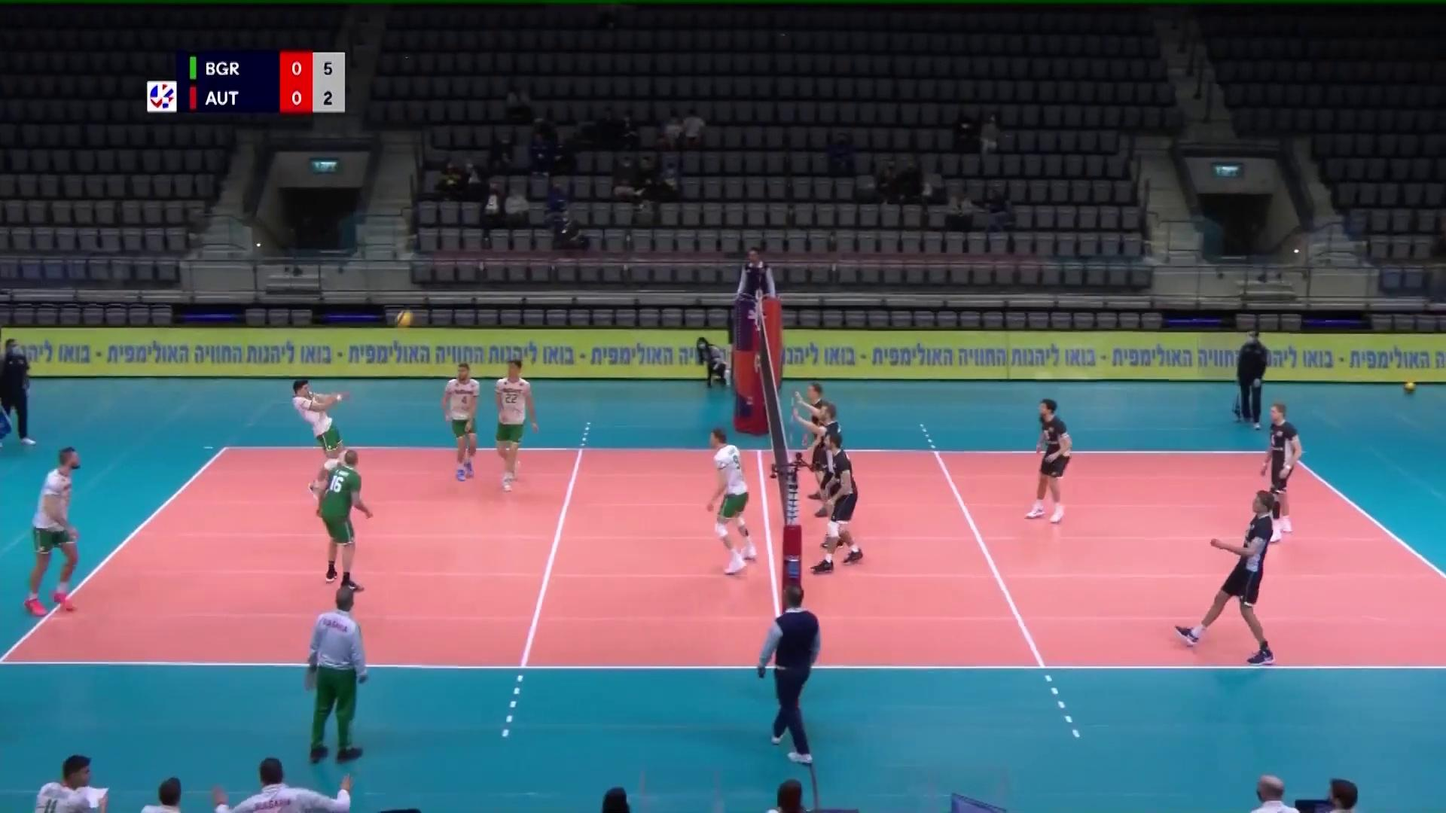ball: (396, 309, 413, 326)
